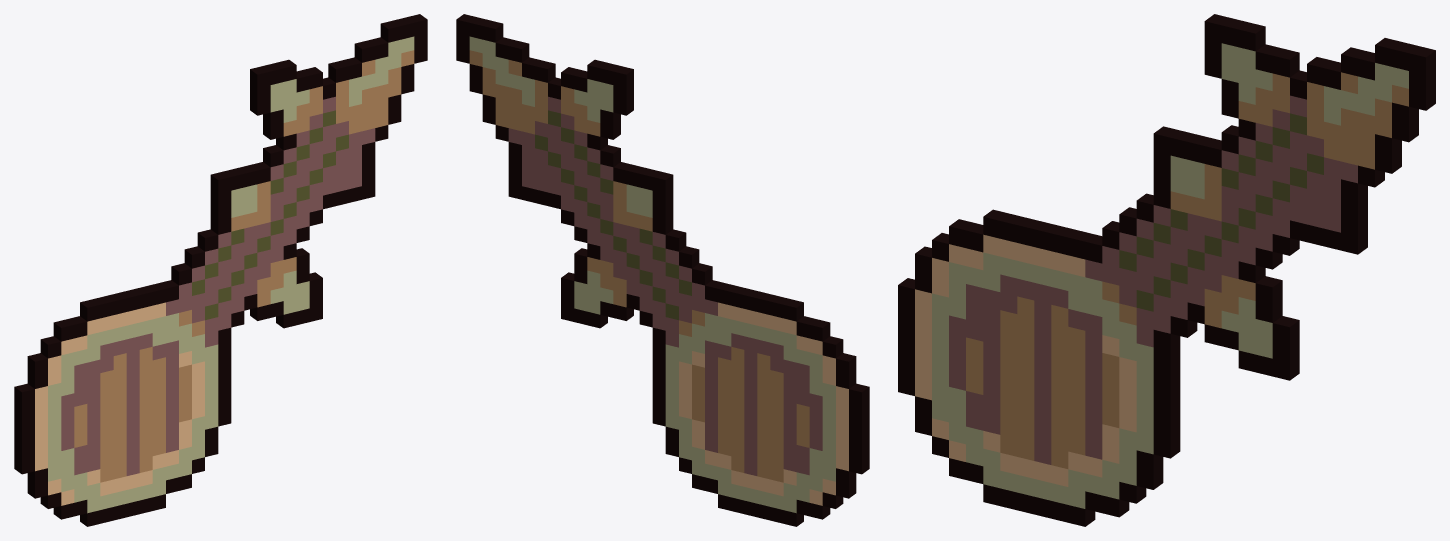
Rendered from I_Key04.fbx.
The picture shows the model from 3 angles, left to right: view 1: azimuth 30°, elevation 25°; view 2: azimuth 150°, elevation 25°; view 3: azimuth 330°, elevation 25°; orthographic projection. The views are drawn at different scales.
Parts seen in each view (by area): view 1: Default; view 2: Default; view 3: Default.
Boxes of the visible parts, left/top/right/bottom form: Default: left=14, top=14, right=427, bottom=526; Default: left=456, top=14, right=869, bottom=526; Default: left=898, top=14, right=1435, bottom=526.
Size of the model in its own units: 31 by 31 by 1.
Materials: 1 (1 with a texture image).
